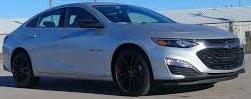Cars: (3, 3, 244, 95)
